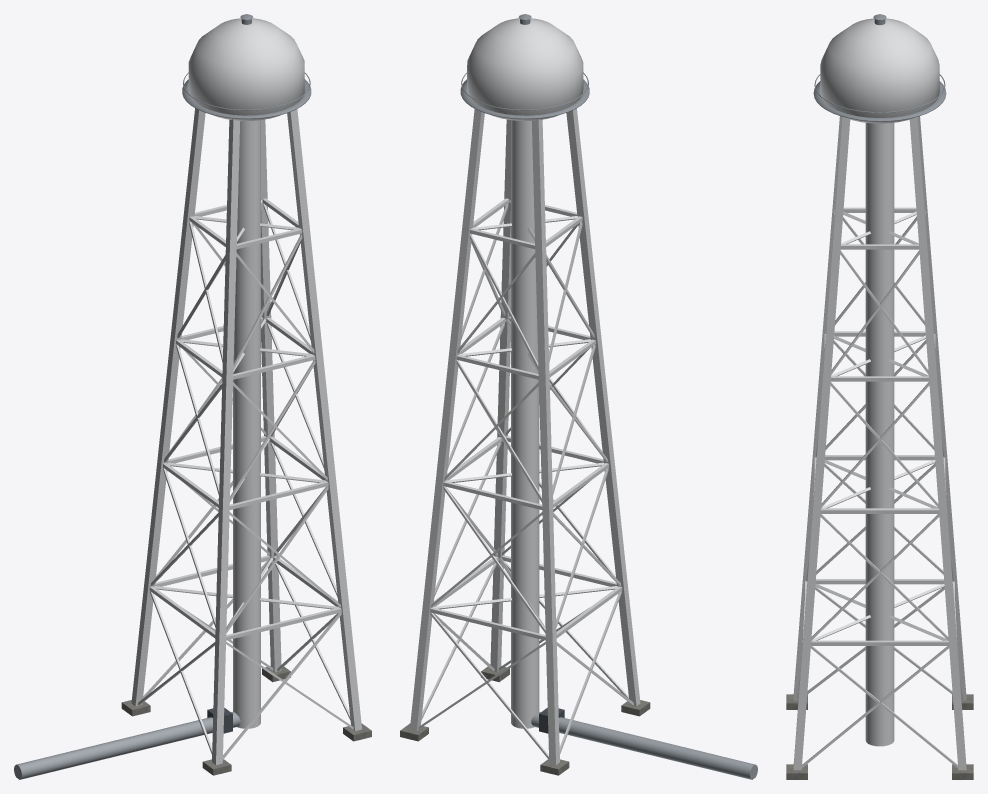
The model's file is water_tower.glb.
3 renders of one model, left to right at view 1: azimuth 30°, elevation 25°; view 2: azimuth 150°, elevation 25°; view 3: azimuth 270°, elevation 25°, orthographic. The views are drawn at different scales.
Parts seen in each view (by area): view 1: water_tower; view 2: water_tower; view 3: water_tower.
Boxes of the visible parts, x1,y1,x2,y2 form: water_tower: [14, 14, 371, 779]; water_tower: [400, 14, 757, 779]; water_tower: [786, 14, 973, 779].
Bounding box in the file's own units: 40.39 × 88.8 × 20.78.
Materials: 5 (1 with a texture image).
